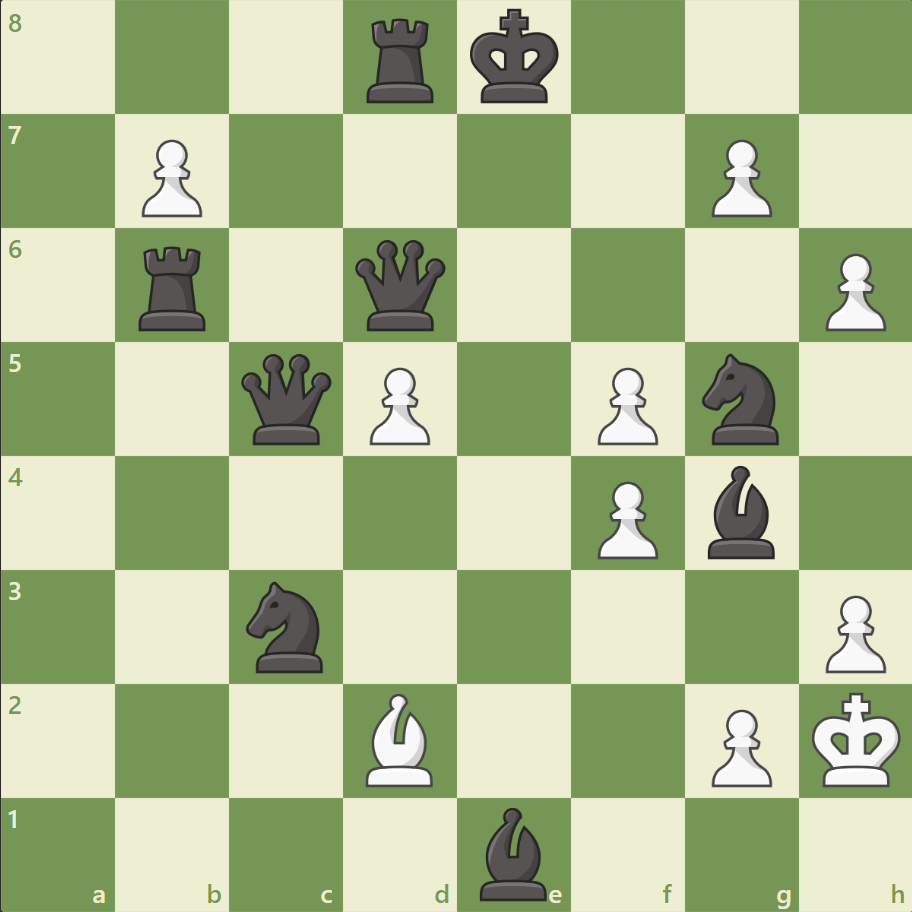B: (358, 687, 442, 790)
K: (806, 685, 906, 793)
P: (133, 132, 208, 223), (701, 132, 776, 223), (701, 700, 776, 791), (815, 246, 889, 337), (361, 359, 435, 450), (588, 359, 662, 450), (588, 473, 662, 564), (815, 586, 889, 677)
b: (698, 460, 782, 563), (471, 801, 555, 904)
k: (465, 4, 565, 112)
n: (692, 348, 789, 450), (238, 575, 335, 677)
q: (237, 349, 336, 449), (351, 236, 450, 335)
r: (360, 12, 442, 109), (133, 239, 215, 336)
